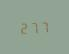seven: (39, 19, 48, 33), (29, 20, 38, 33)
two: (18, 20, 27, 34)
